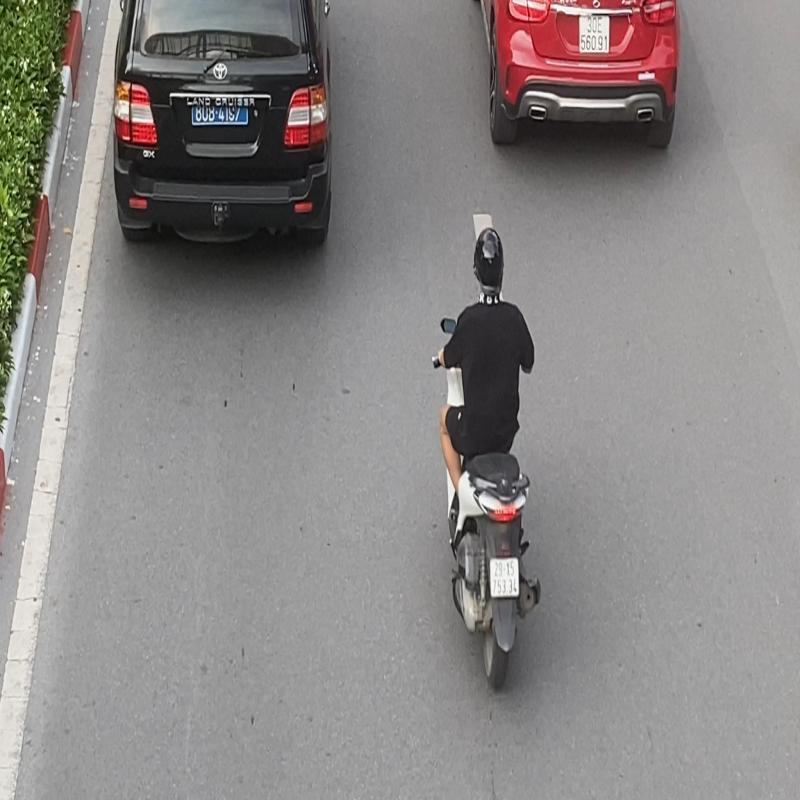helmet: (471, 224, 506, 284)
licenseplate: (490, 556, 519, 595)
motorcyclist: (427, 219, 550, 698)
